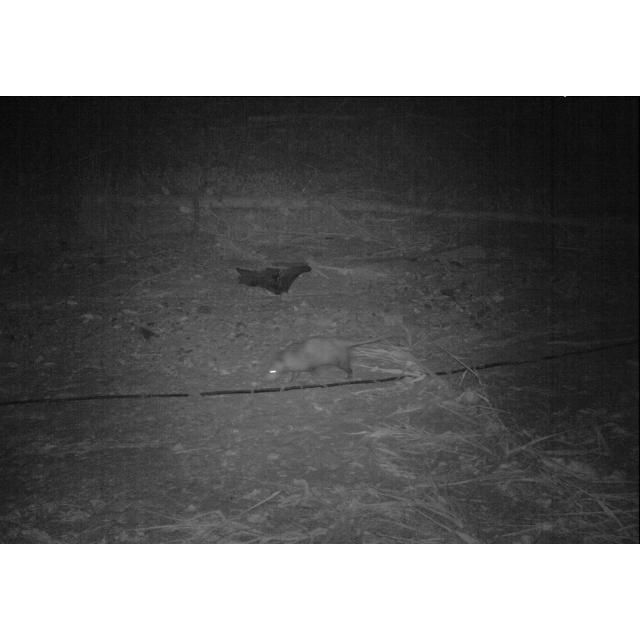animals: (263, 330, 411, 382)
